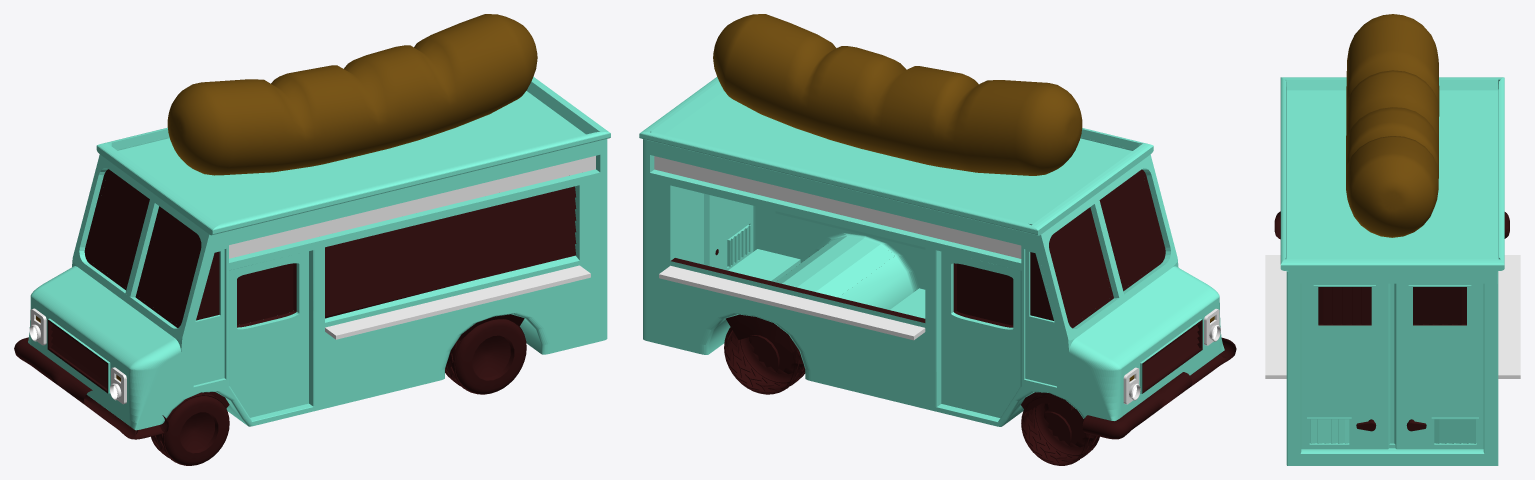
Rendered from truck.glb.
3 renders of one model, left to right at view 1: azimuth 30°, elevation 25°; view 2: azimuth 150°, elevation 25°; view 3: azimuth 270°, elevation 25°, orthographic. The views are drawn at different scales.
Visible parts, largest first — view 1: Cube004, pCylinder1, Cube004_2, Cube004_1, TIRES, Cube004_4, SERVING_COUNTER, BUMPER, Cube004_3, Cylinder; view 2: Cube004, pCylinder1, Cube004_1, TIRES, Cube004_4, SERVING_COUNTER, Cube004_2, Cube004_3, BUMPER, Cylinder; view 3: Cube004, pCylinder1, SERVING_COUNTER, Cube004_2, HANDLES, BUMPER.
Boxes of the visible parts, bbox=[...] form: Cube004: bbox=[28, 77, 610, 430]; pCylinder1: bbox=[167, 14, 537, 175]; Cube004_2: bbox=[47, 186, 576, 393]; Cube004_1: bbox=[87, 172, 293, 325]; TIRES: bbox=[151, 319, 526, 465]; Cube004_4: bbox=[229, 155, 595, 258]; SERVING_COUNTER: bbox=[325, 265, 590, 339]; BUMPER: bbox=[14, 337, 168, 439]; Cube004_3: bbox=[84, 169, 524, 408]; Cylinder: bbox=[29, 308, 126, 404]; Cube004: bbox=[639, 77, 1224, 426]; pCylinder1: bbox=[713, 14, 1082, 175]; Cube004_1: bbox=[957, 172, 1162, 325]; TIRES: bbox=[724, 322, 1099, 465]; Cube004_4: bbox=[654, 156, 1021, 258]; SERVING_COUNTER: bbox=[659, 265, 925, 340]; Cube004_2: bbox=[671, 258, 1202, 393]; Cube004_3: bbox=[726, 169, 1165, 411]; BUMPER: bbox=[1082, 337, 1236, 439]; Cylinder: bbox=[1123, 308, 1220, 404]; Cube004: bbox=[1280, 77, 1504, 465]; pCylinder1: bbox=[1346, 14, 1439, 237]; SERVING_COUNTER: bbox=[1265, 255, 1520, 378]; Cube004_2: bbox=[1318, 287, 1466, 325]; HANDLES: bbox=[1356, 419, 1426, 431]; BUMPER: bbox=[1274, 211, 1509, 239].
Bounding box in the file's own units: 3.04 × 1.96 × 1.43.
